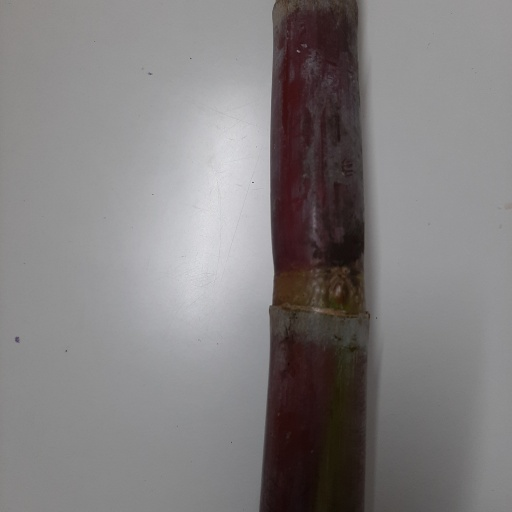Bud: (327, 277, 349, 310)
